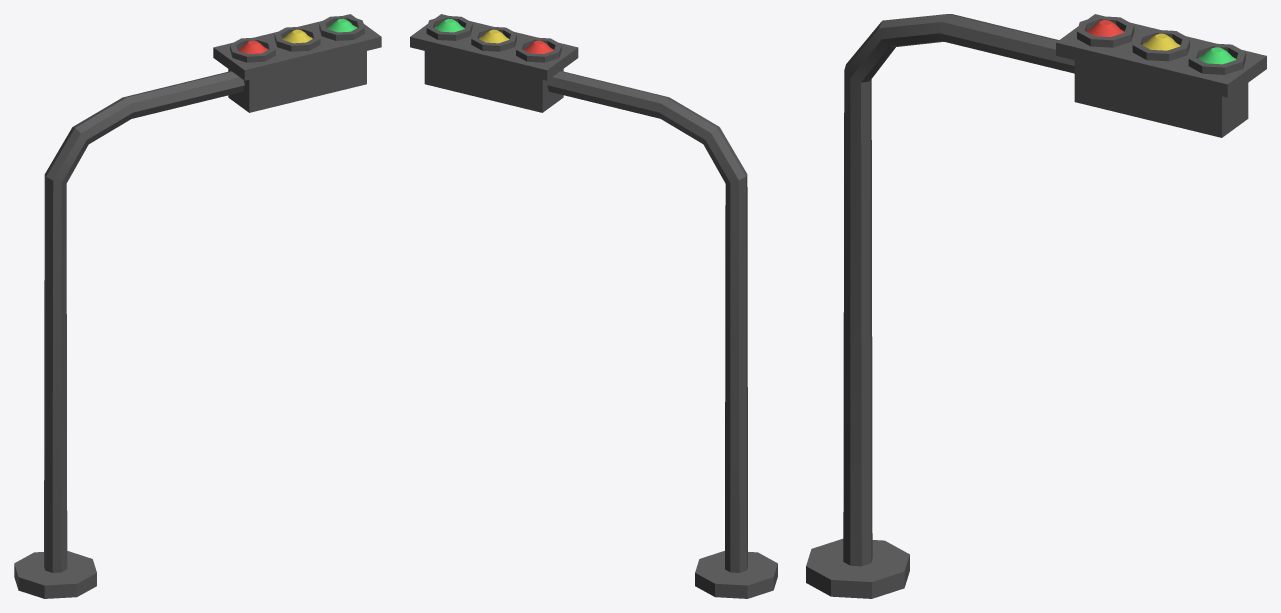
Rendered from streetTest 1.fbx.
The picture shows the model from 3 angles, left to right: view 1: azimuth 30°, elevation 25°; view 2: azimuth 150°, elevation 25°; view 3: azimuth 330°, elevation 25°; orthographic projection. The views are drawn at different scales.
Parts seen in each view (by area): view 1: 4. traffic-lights-curved; view 2: 4. traffic-lights-curved; view 3: 4. traffic-lights-curved.
Boxes of the visible parts, box(x1,y1,x2,y2) form: 4. traffic-lights-curved: box(14, 14, 381, 598); 4. traffic-lights-curved: box(410, 14, 777, 598); 4. traffic-lights-curved: box(806, 14, 1266, 598).
Size of the model in its own units: 328 by 442 by 70.06.
